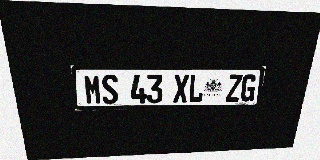3: (147, 74, 163, 103)
4: (130, 74, 146, 104)
G: (240, 74, 257, 102)
L: (188, 74, 205, 102)
M: (83, 74, 102, 104)
S: (101, 74, 119, 104)
X: (173, 74, 189, 103)
Z: (225, 74, 243, 102)
